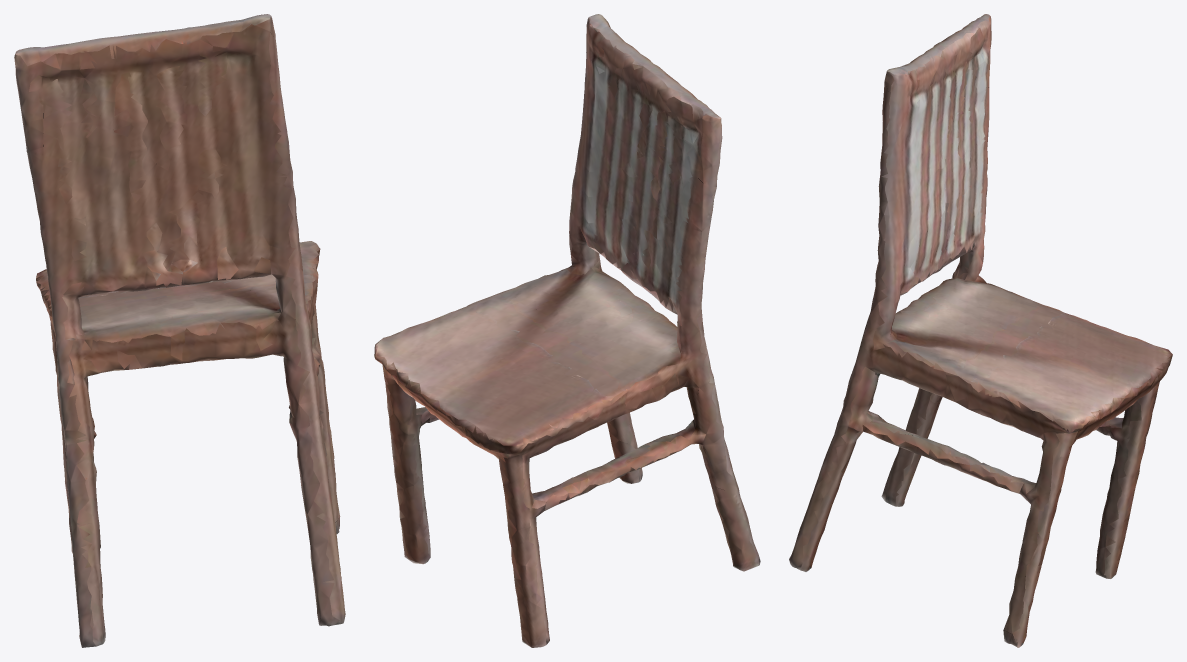
The picture shows the model from 3 angles, left to right: view 1: azimuth 30°, elevation 25°; view 2: azimuth 150°, elevation 25°; view 3: azimuth 270°, elevation 25°; orthographic projection. The views are drawn at different scales.
Parts seen in each view (by area): view 1: world; view 2: world; view 3: world.
Part boxes in pixels (x1,y1,x2,y2): world: (14,14,345,647); world: (374,14,760,647); world: (789,14,1172,647).
Size of the model in its own units: 0.5582 by 0.9422 by 0.621.
1 material, 1 textured.
